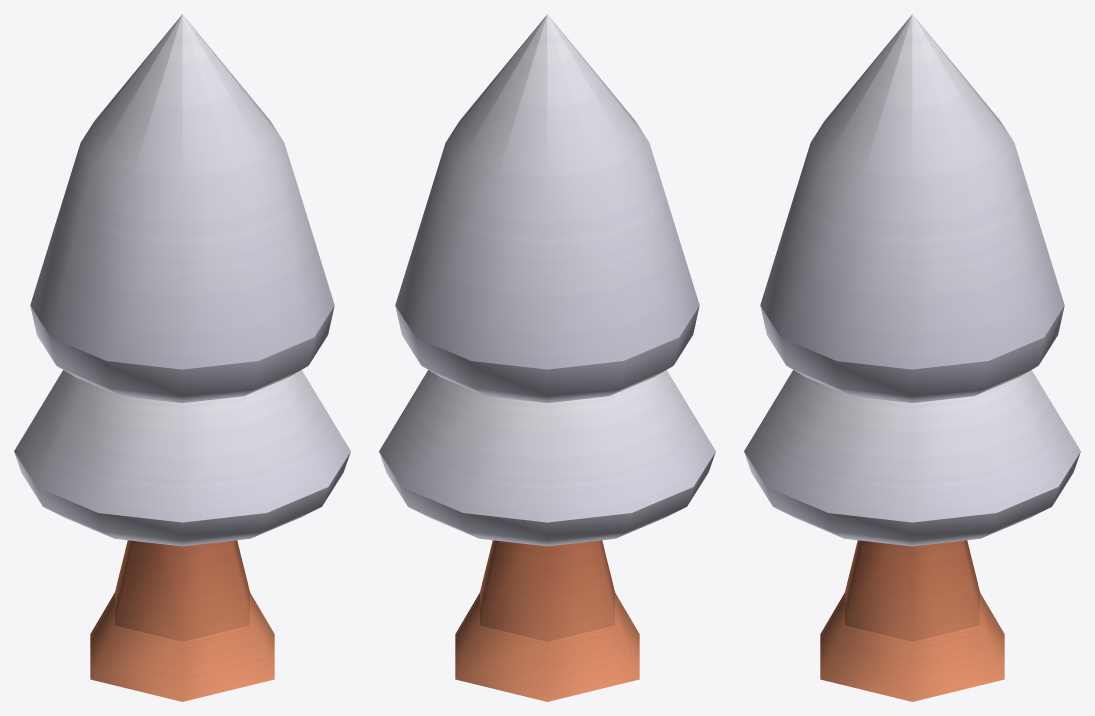
The model's file is tree-pine-snow-small.glb.
3 renders of one model, left to right at view 1: azimuth 30°, elevation 25°; view 2: azimuth 150°, elevation 25°; view 3: azimuth 270°, elevation 25°, orthographic.
Parts seen in each view (by area): view 1: tree-pine-snow-small; view 2: tree-pine-snow-small; view 3: tree-pine-snow-small.
Part boxes in pixels (<box>): tree-pine-snow-small: <box>14,14,350,701</box>; tree-pine-snow-small: <box>379,14,715,701</box>; tree-pine-snow-small: <box>744,14,1080,701</box>.
Bounding box in the file's own units: 0.6639 × 1.4 × 0.6639.
1 material, 1 textured.
